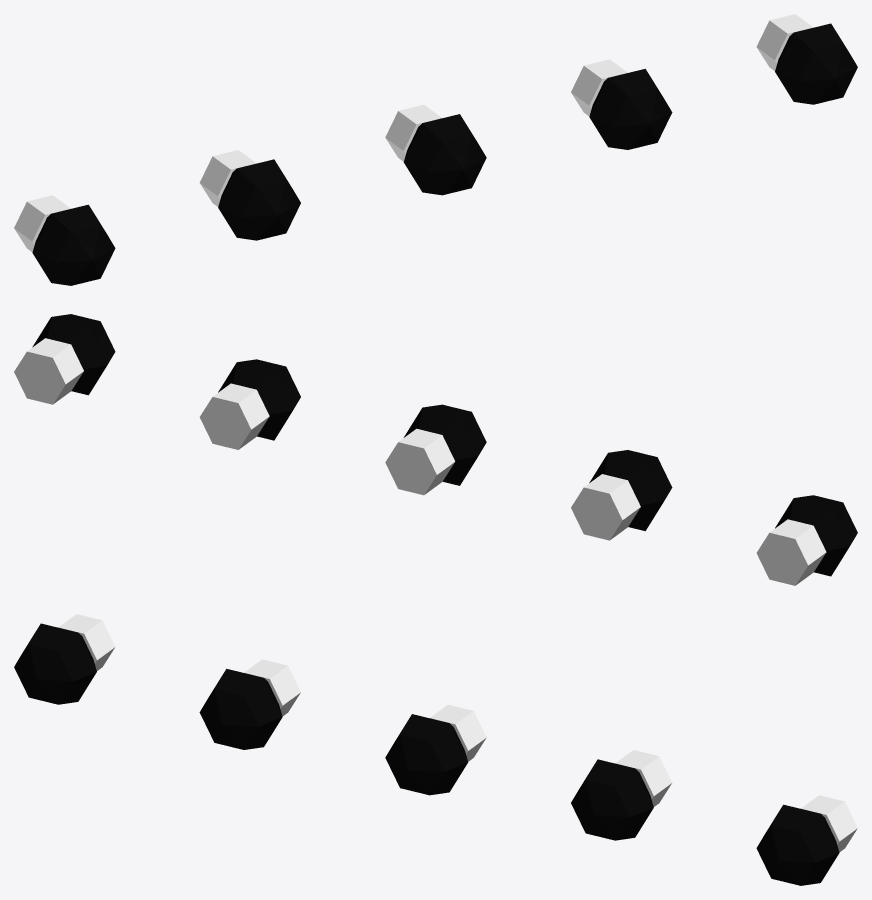
Rendered from SM_Prop_Casino_Neon_10.fbx.
3 renders of one model, top to bottom at view 1: azimuth 30°, elevation 25°; view 2: azimuth 150°, elevation 25°; view 3: azimuth 330°, elevation 25°, orthographic.
Parts seen in each view (by area): view 1: SM_Prop_Casino_Neon_10; view 2: SM_Prop_Casino_Neon_10; view 3: SM_Prop_Casino_Neon_10.
Boxes of the visible parts, <box> form: SM_Prop_Casino_Neon_10: <box>14,14,857,285</box>; SM_Prop_Casino_Neon_10: <box>14,314,857,585</box>; SM_Prop_Casino_Neon_10: <box>14,614,857,885</box>.
Size of the model in its own units: 220 by 17.84 by 24.64.
